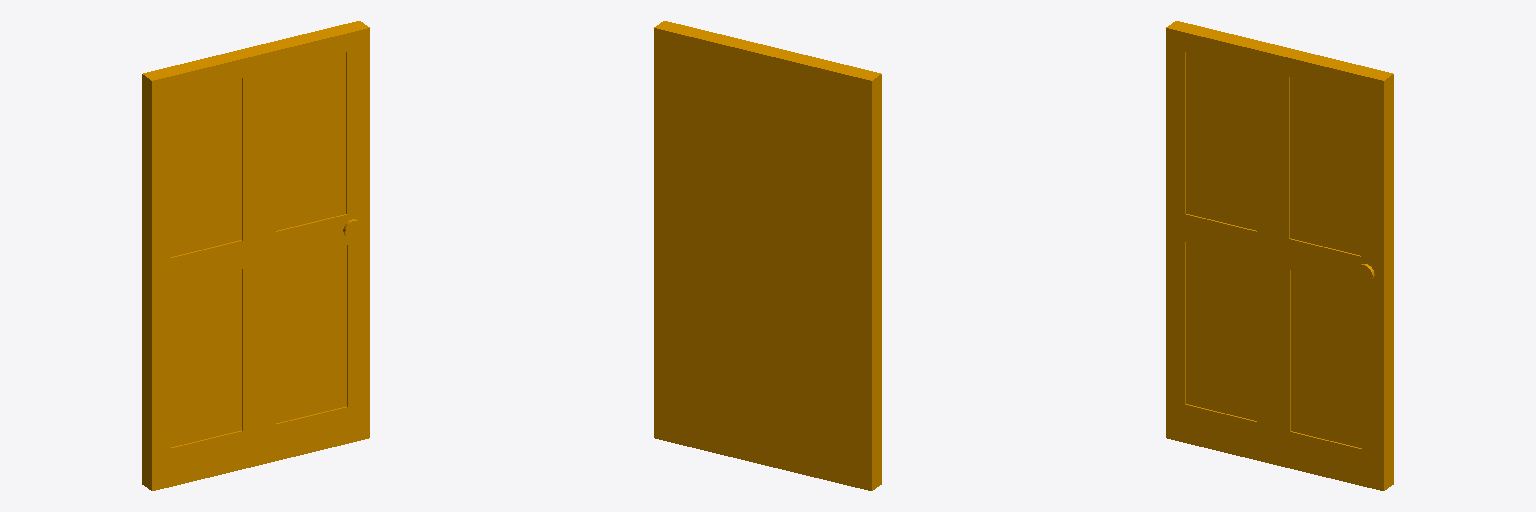
URDF robot description (door):
<?xml version="1.0"?>
<robot name="door">
  <link name="door">
		<inertial>
		  <origin xyz="0.00 0.00 0.00" rpy="0 0 0"/>
		  <mass value="41.3256"/>
		  <inertia ixx="14.2053" ixy="0.0004" ixz="0.0" iyy="17.1997" iyz="0.0" izz="3.0298" />
		</inertial>
		<visual> <geometry> <mesh filename="objects/door.dae" /> </geometry> </visual>
		<collision> <geometry> <mesh filename="objects/door.dae" /> </geometry> </collision>
  </link>
</robot>

--- Render facts (derived) ---
Views: 3 orthographic renders of the robot side by side, from view 1: azimuth 30°, elevation 25°; view 2: azimuth 150°, elevation 25°; view 3: azimuth 330°, elevation 25°.
Model door with 1 links and 0 joints (none), rooted at door, posed every joint at zero.
Links seen in each view (by area): view 1: door; view 2: door; view 3: door.
Link boxes in pixels (x1,y1,x2,y2): door: [142, 21, 369, 490]; door: [654, 21, 881, 490]; door: [1166, 21, 1393, 490].
Size in the robot's own frame: 1.25 by 0.12 by 2.25 metres.
Meshes: 1 distinct files referenced, 1 mesh visuals loaded (1 Collada DAE).